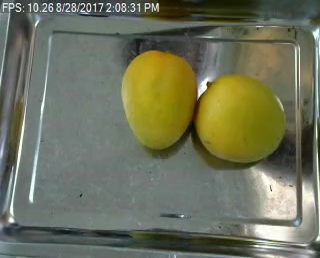Mango: (196, 73, 287, 163), (120, 50, 197, 150)
